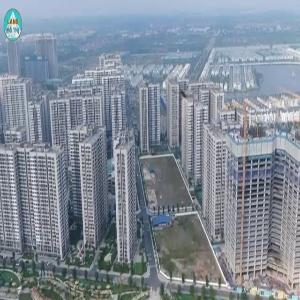drone: (152, 60, 218, 126)
